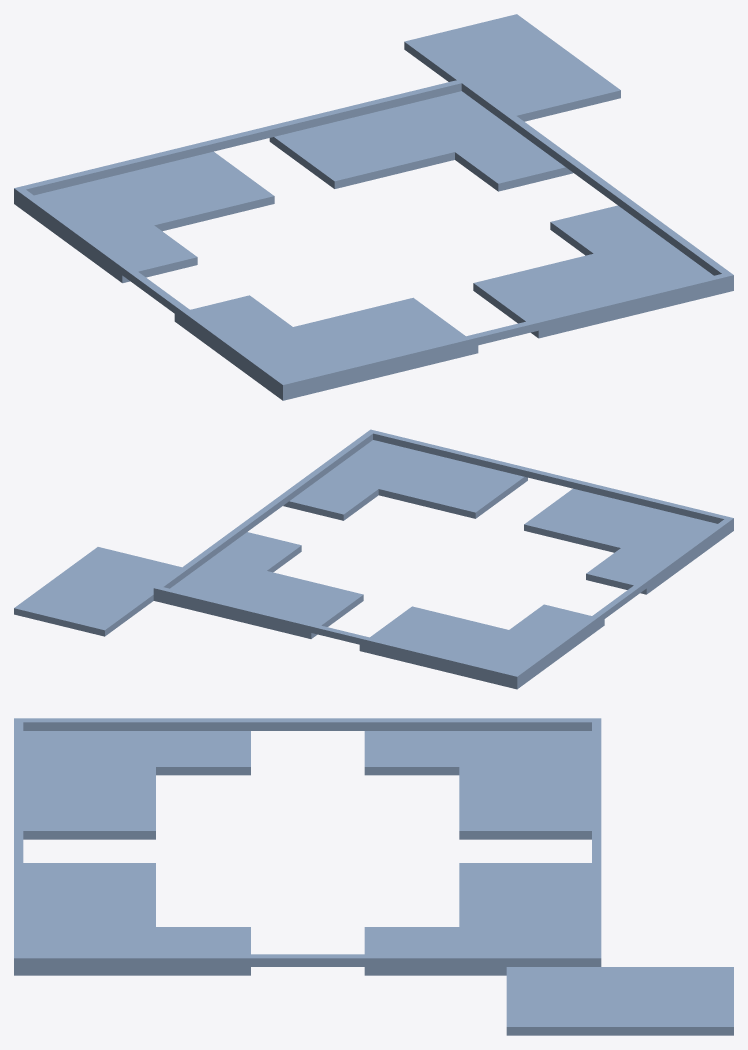
The model's file is SM_Floor2_tops.fbx.
The picture shows the model from 3 angles, top to bottom: view 1: azimuth 30°, elevation 25°; view 2: azimuth 150°, elevation 25°; view 3: azimuth 270°, elevation 25°; orthographic projection. The views are drawn at different scales.
Visible parts, largest first — view 1: polySurface726, polySurface23, polySurface19, polySurface18, Hallway50, walls85, walls84, walls86, walls83; view 2: polySurface19, polySurface18, polySurface726, polySurface23, Hallway50, walls85, walls84, walls86, walls83; view 3: polySurface18, polySurface23, polySurface19, polySurface726, Hallway50, walls83, walls86, walls85, walls84.
Boxes of the visible parts, <box> form: polySurface726: <box>269,91,572,191</box>; polySurface23: <box>14,151,274,283</box>; polySurface19: <box>473,205,733,338</box>; polySurface18: <box>174,295,478,400</box>; Hallway50: <box>404,14,620,121</box>; walls85: <box>278,272,733,392</box>; walls84: <box>22,78,467,195</box>; walls86: <box>14,186,290,392</box>; walls83: <box>458,78,733,284</box>; polySurface19: <box>283,440,527,520</box>; polySurface18: <box>524,488,733,594</box>; polySurface726: <box>153,532,363,638</box>; polySurface23: <box>359,604,604,689</box>; Hallway50: <box>14,547,181,636</box>; walls85: <box>369,430,733,526</box>; walls84: <box>153,587,514,681</box>; walls86: <box>511,517,733,682</box>; walls83: <box>153,429,375,595</box>; polySurface18: <box>23,731,250,839</box>; polySurface23: <box>364,731,591,839</box>; polySurface19: <box>14,863,250,975</box>; polySurface726: <box>364,863,591,975</box>; Hallway50: <box>506,967,733,1035</box>; walls83: <box>14,954,601,966</box>; walls86: <box>14,718,601,730</box>; walls85: <box>14,718,23,966</box>; walls84: <box>592,722,601,966</box>.
Bounding box in the file's own units: 3750 × 100 × 3800.
